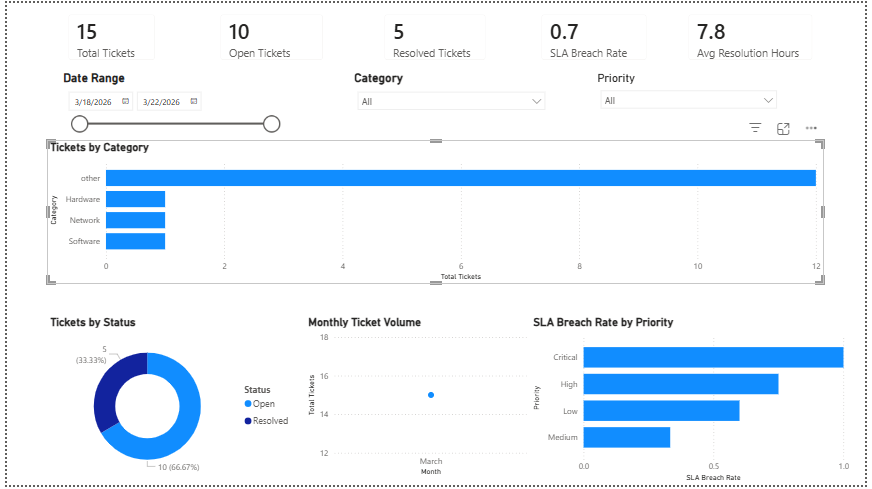

What the dashboard file says about the page in this screenshot:
{"tool":"powerbi","page":{"name":"IT Help Desk Overview","canvas":[1280,720],"ordinal":0},"visuals":[{"type":"cardVisual","fields":{"Data":["Measures (2).Total Tickets"]},"box":[74.5,0,163.8,102.1],"z":0},{"type":"cardVisual","fields":{"Data":["Measures (2).Open Tickets"]},"box":[302.1,0,187.2,102.1],"z":1000},{"type":"cardVisual","fields":{"Data":["Measures (2).Resolved Tickets"]},"box":[546.8,0,185.1,102.1],"z":2000},{"type":"cardVisual","fields":{"Data":["Measures (2).SLA Breach Rate"]},"box":[780.9,0,191.5,102.1],"z":3000},{"type":"cardVisual","fields":{"Data":["Measures (2).Avg Resolution Hours"]},"box":[1000,0,219.1,102.1],"z":4000},{"type":"clusteredBarChart","title":"Tickets by Category","fields":{"Category":["Tickets.Category"],"Y":["Measures (2).Total Tickets"]},"box":[59.6,204.3,1159.6,214.9],"z":4001},{"type":"donutChart","title":"Tickets by Status","fields":{"Category":["Tickets.Status"],"Y":["Measures (2).Total Tickets"]},"box":[59.6,466,374.5,253.2],"z":4002},{"type":"lineChart","title":"Monthly Ticket Volume","fields":{"Category":["Tickets.SubmittedDate.Variation.Date Hierarchy.Month"],"Y":["Measures (2).Total Tickets"]},"box":[444.7,466,336.2,244.7],"z":4003},{"type":"clusteredBarChart","fields":{"Category":["Tickets.Priority"],"Y":["Measures (2).SLA Breach Rate"]},"box":[780.9,466,480.9,253.2],"z":4004},{"type":"slicer","title":"Date Range","fields":{"Values":["Tickets.SubmittedDate"]},"box":[78.7,102.1,336.2,102.1],"z":4005},{"type":"slicer","title":"Category","fields":{"Values":["Tickets.Category"]},"box":[512.8,102.1,300,102.1],"z":4006},{"type":"slicer","title":"Priority","fields":{"Values":["Tickets.Priority"]},"box":[876.6,102.1,283,102.1],"z":4007}]}

Visuals, with their boxes in screenshot pixels (x1, y1, x2, y2), scaled from the page's 1280x720 canvas onto the 872x489 screenshot:
cardVisual - Measures (2).Total Tickets: [left=51, top=0, right=162, bottom=69]
cardVisual - Measures (2).Open Tickets: [left=206, top=0, right=333, bottom=69]
cardVisual - Measures (2).Resolved Tickets: [left=373, top=0, right=499, bottom=69]
cardVisual - Measures (2).SLA Breach Rate: [left=532, top=0, right=662, bottom=69]
cardVisual - Measures (2).Avg Resolution Hours: [left=681, top=0, right=831, bottom=69]
"Tickets by Category" clusteredBarChart: [left=41, top=139, right=831, bottom=285]
"Tickets by Status" donutChart: [left=41, top=316, right=296, bottom=488]
"Monthly Ticket Volume" lineChart: [left=303, top=316, right=532, bottom=483]
clusteredBarChart - Tickets.Priority x Measures (2).SLA Breach Rate: [left=532, top=316, right=860, bottom=488]
"Date Range" slicer: [left=54, top=69, right=283, bottom=139]
"Category" slicer: [left=349, top=69, right=554, bottom=139]
"Priority" slicer: [left=597, top=69, right=790, bottom=139]
